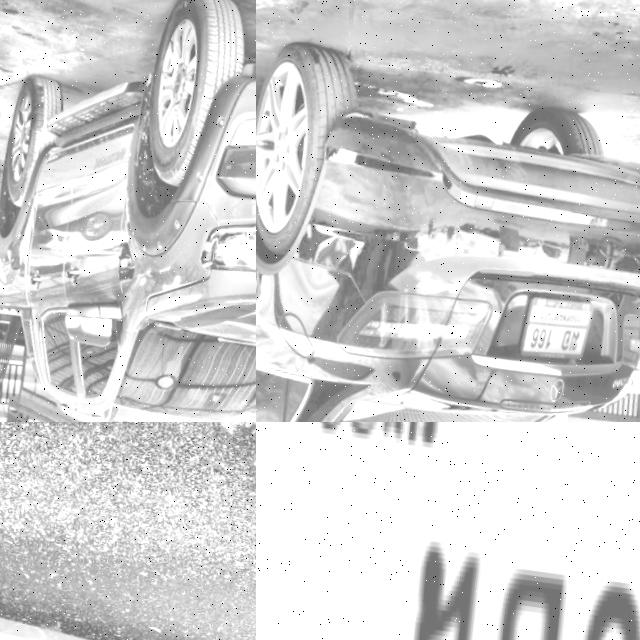license-plate: (256, 422, 640, 640), (514, 294, 595, 370)
